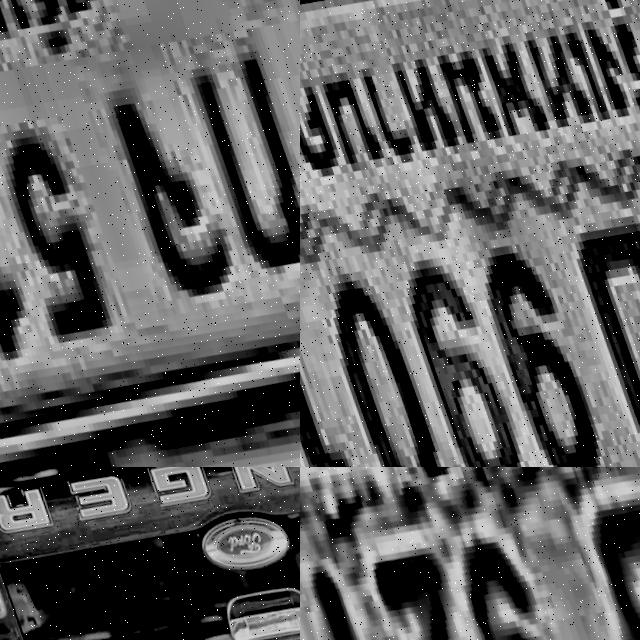license-plate: (300, 0, 640, 467), (0, 0, 300, 467), (300, 467, 640, 640)
